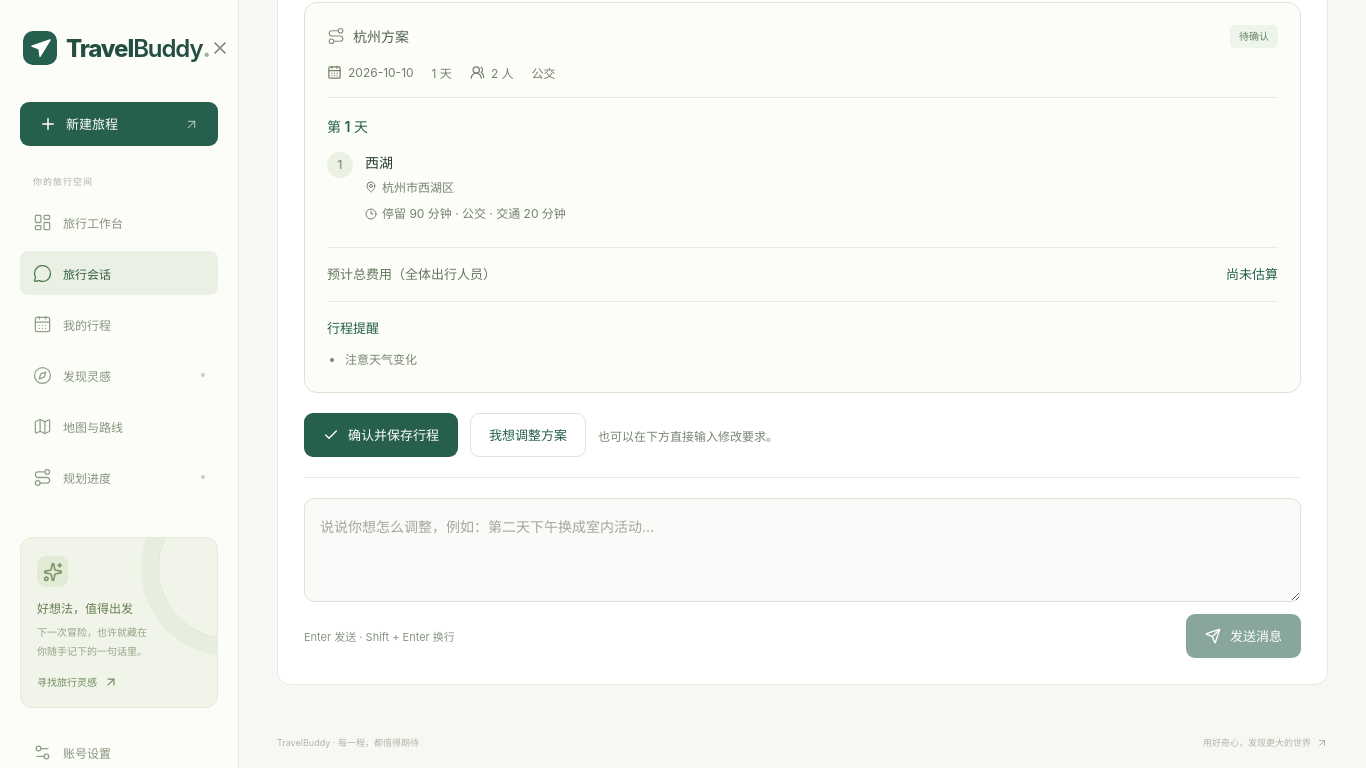
Scenario: 旅行会话 › 确认方案发送确认消息并展示保存 ID 与版本
(page scrolled)
Click the button "确认并保存行程". click: (381, 435)
box: [304,413,458,457]
(page scrolled)
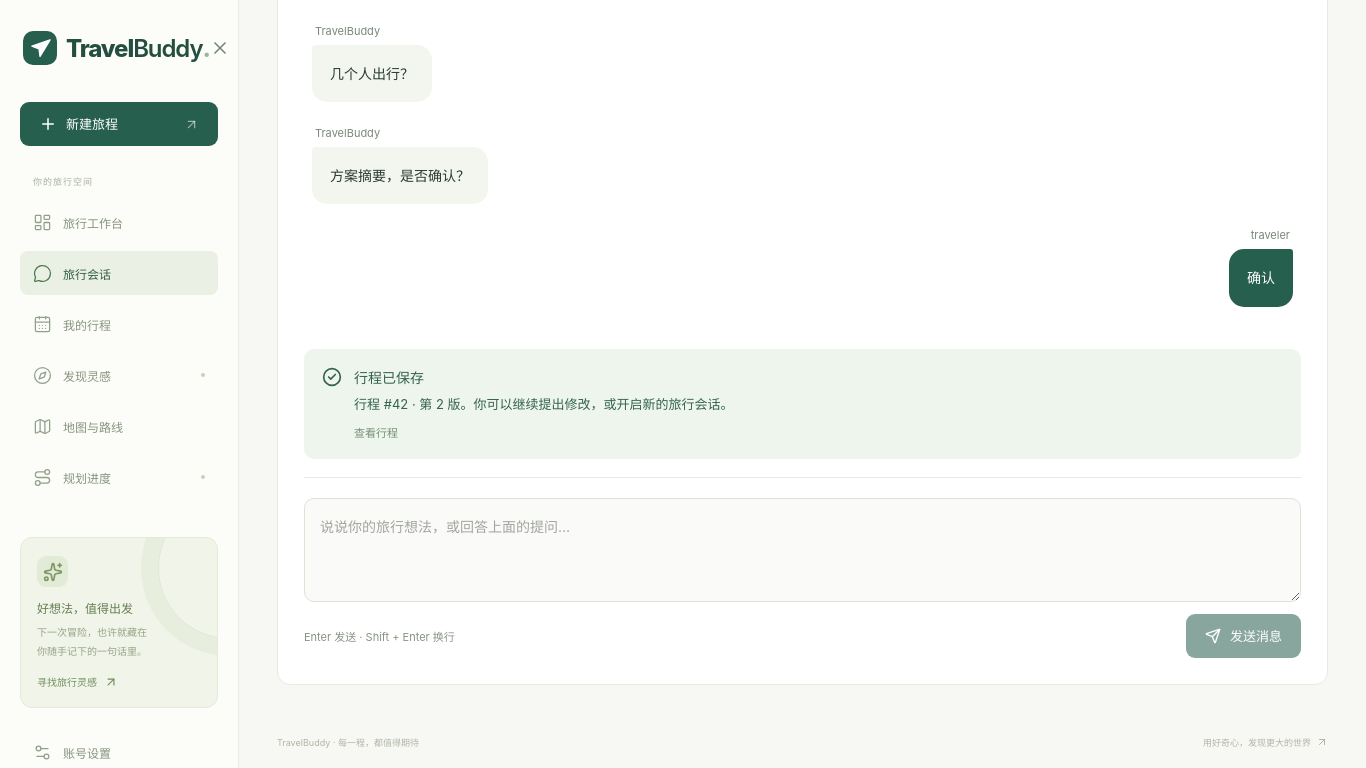
Check: the text "行程已保存" is shown, box [354,368,424,386]
Check: the text "行程 #42 · 第 2 版。你可以继续提出修改，或开启新的旅行会话。" is shown, box [354,392,734,416]
